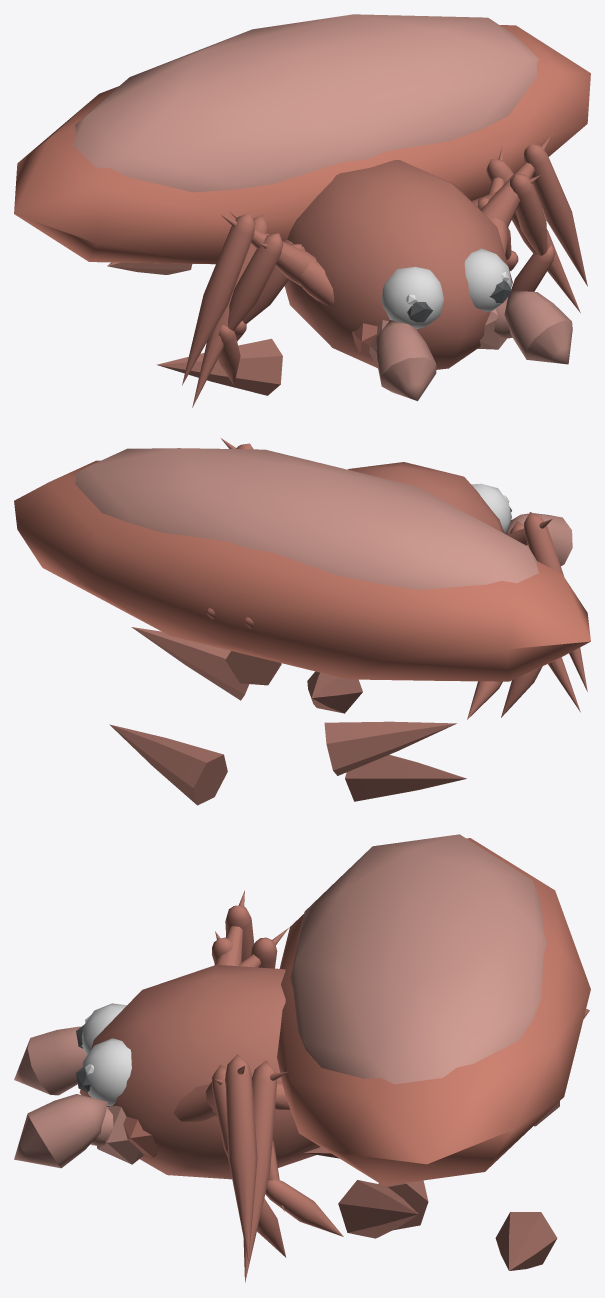
The model's file is gasteracantha-hecata.glb.
3 renders of one model, top to bottom at view 1: azimuth 30°, elevation 25°; view 2: azimuth 150°, elevation 25°; view 3: azimuth 270°, elevation 25°, orthographic. The views are drawn at different scales.
Parts seen in each view (by area): view 1: abdomen, cephalothorax, leg1-r0, leg1-l0, palp-l1, palp-r1, leg2-r0, eye0-r, leg2-l0, leg0-r0, eye0-l, leg0-l0 (+1 smaller); view 2: abdomen, cephalothorax, leg1-r0, palp-r1, eye0-r, leg2-r0, leg3-r0, leg0-r0; view 3: abdomen, cephalothorax, palp-l1, leg1-l0, leg0-l0, palp-r1, eye0-l, leg3-l0, leg2-l0, leg1-r0, eye0-r, leg0-r0.
Boxes of the visible parts, left/top/right/bottom form: abdomen: left=14, top=14, right=590, bottom=395; cephalothorax: left=284, top=159, right=512, bottom=369; leg1-r0: left=182, top=212, right=316, bottom=385; leg1-l0: left=480, top=133, right=587, bottom=286; palp-l1: left=504, top=291, right=572, bottom=364; palp-r1: left=376, top=320, right=436, bottom=401; leg2-r0: left=217, top=233, right=305, bottom=385; eye0-r: left=381, top=266, right=443, bottom=329; leg2-l0: left=471, top=174, right=554, bottom=291; leg0-r0: left=192, top=212, right=334, bottom=407; eye0-l: left=464, top=248, right=511, bottom=312; leg0-l0: left=486, top=145, right=580, bottom=312; abdomen: left=14, top=448, right=590, bottom=805; cephalothorax: left=348, top=462, right=504, bottom=533; leg1-r0: left=506, top=512, right=587, bottom=691; palp-r1: left=506, top=513, right=572, bottom=565; eye0-r: left=471, top=483, right=511, bottom=534; leg2-r0: left=501, top=521, right=542, bottom=717; leg3-r0: left=467, top=681, right=502, bottom=719; leg0-r0: left=548, top=657, right=580, bottom=712; abdomen: left=277, top=834, right=590, bottom=1270; cephalothorax: left=79, top=964, right=320, bottom=1179; palp-l1: left=14, top=1094, right=107, bottom=1168; leg1-l0: left=205, top=1054, right=257, bottom=1262; leg0-l0: left=173, top=1060, right=288, bottom=1282; palp-r1: left=14, top=1026, right=86, bottom=1095; eye0-l: left=76, top=1038, right=131, bottom=1105; leg3-l0: left=265, top=1084, right=343, bottom=1236; leg2-l0: left=211, top=1064, right=286, bottom=1257; leg1-r0: left=215, top=890, right=254, bottom=965; eye0-r: left=76, top=1003, right=126, bottom=1055; leg0-r0: left=238, top=927, right=289, bottom=968.
Bounding box in the file's own units: 0.5329 × 0.286 × 0.4261.
